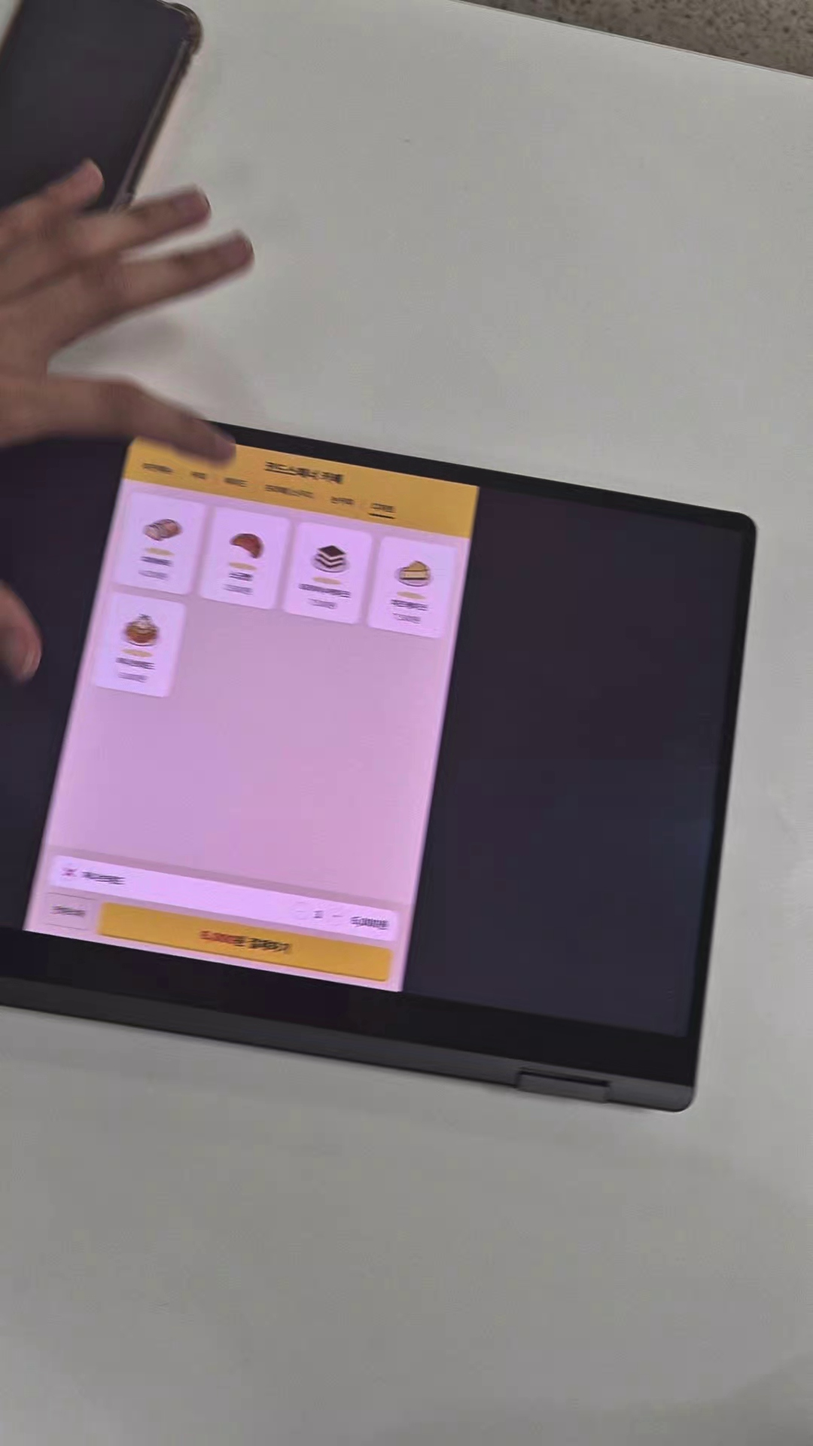action_button: (96, 901, 393, 982), (38, 892, 94, 932)
cart_item: (50, 855, 400, 942)
category_tab: (262, 482, 316, 502), (138, 461, 175, 479), (220, 474, 250, 491), (368, 502, 398, 516), (328, 494, 355, 509), (187, 469, 210, 482)
menu_back: (115, 492, 208, 596), (196, 506, 289, 610), (282, 519, 375, 623), (365, 534, 458, 638), (93, 592, 186, 696)
menu_name: (297, 583, 354, 600), (80, 869, 128, 888), (113, 655, 156, 671), (388, 598, 430, 613), (226, 569, 255, 584)
menu_price: (348, 912, 391, 933)
